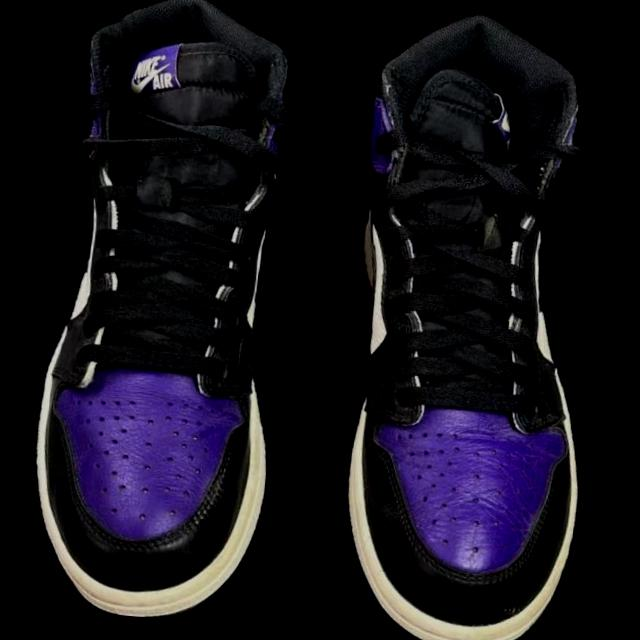nike_original_jordan: (321, 6, 628, 640), (17, 0, 312, 635)
